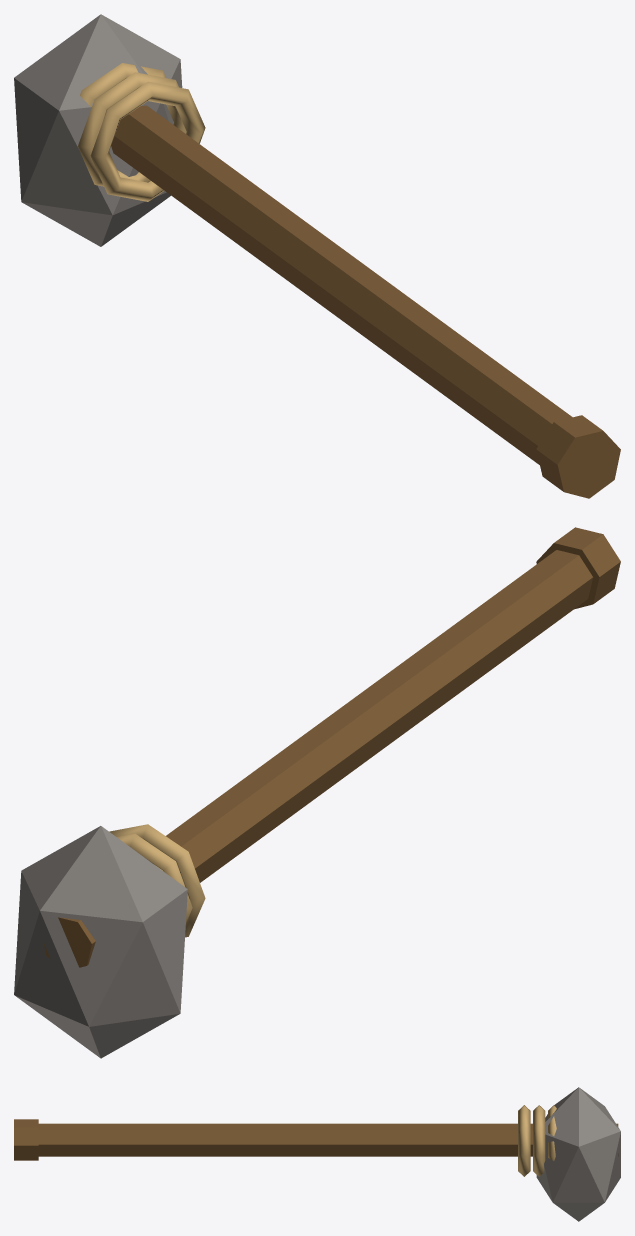
Rendered from Tool_Hammer_Stone.fbx.
The picture shows the model from 3 angles, top to bottom: view 1: azimuth 30°, elevation 25°; view 2: azimuth 150°, elevation 25°; view 3: azimuth 270°, elevation 25°; orthographic projection. The views are drawn at different scales.
Visible parts, largest first — view 1: Tool_Hammer_Stone; view 2: Tool_Hammer_Stone; view 3: Tool_Hammer_Stone.
Part boxes in pixels (x1,y1,x2,y2): Tool_Hammer_Stone: [14, 14, 620, 498]; Tool_Hammer_Stone: [14, 527, 620, 1058]; Tool_Hammer_Stone: [14, 1087, 620, 1221].
Size of the model in its own units: 0.0429 by 0.06 by 0.245.
